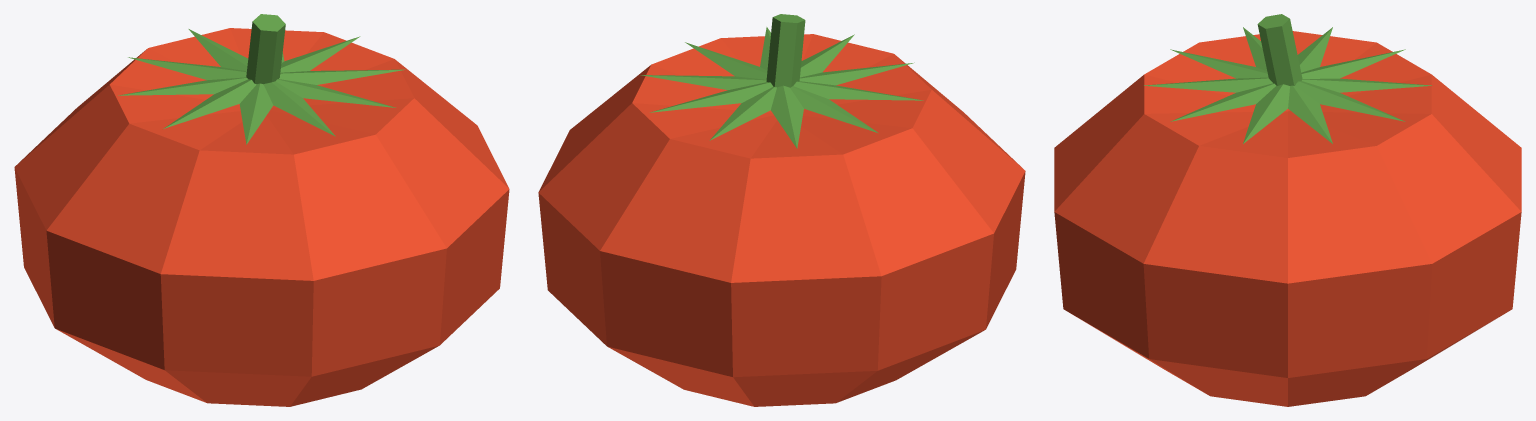
File: tomato.glb
The picture shows the model from 3 angles, left to right: view 1: azimuth 30°, elevation 25°; view 2: azimuth 150°, elevation 25°; view 3: azimuth 270°, elevation 25°; orthographic projection.
Visible parts, largest first — view 1: tomato; view 2: tomato; view 3: tomato.
Boxes of the visible parts, left/top/right/bottom form: tomato: left=14, top=14, right=509, bottom=406; tomato: left=538, top=14, right=1025, bottom=406; tomato: left=1054, top=14, right=1521, bottom=406.
Size of the model in its own units: 0.104 by 0.0826 by 0.0989.
